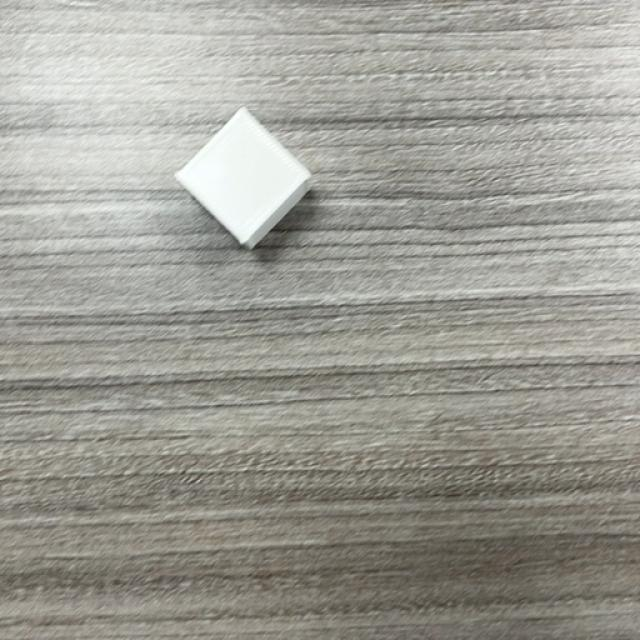Blanco: (172, 109, 314, 250)
